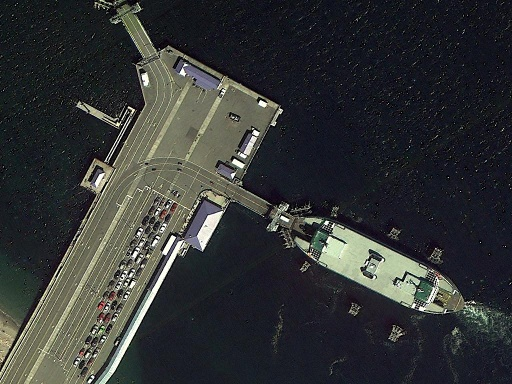ship: (276, 201, 477, 330)
